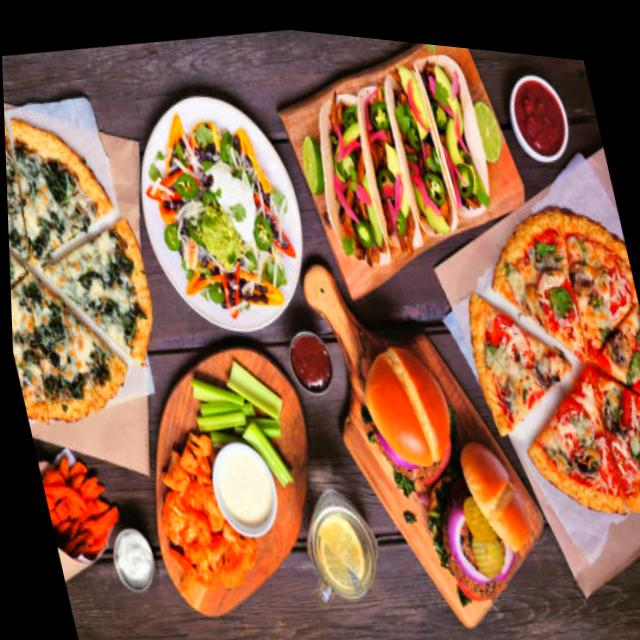burger: (408, 416, 542, 605), (350, 328, 463, 487)
pizza: (440, 173, 640, 523), (3, 99, 179, 446)
